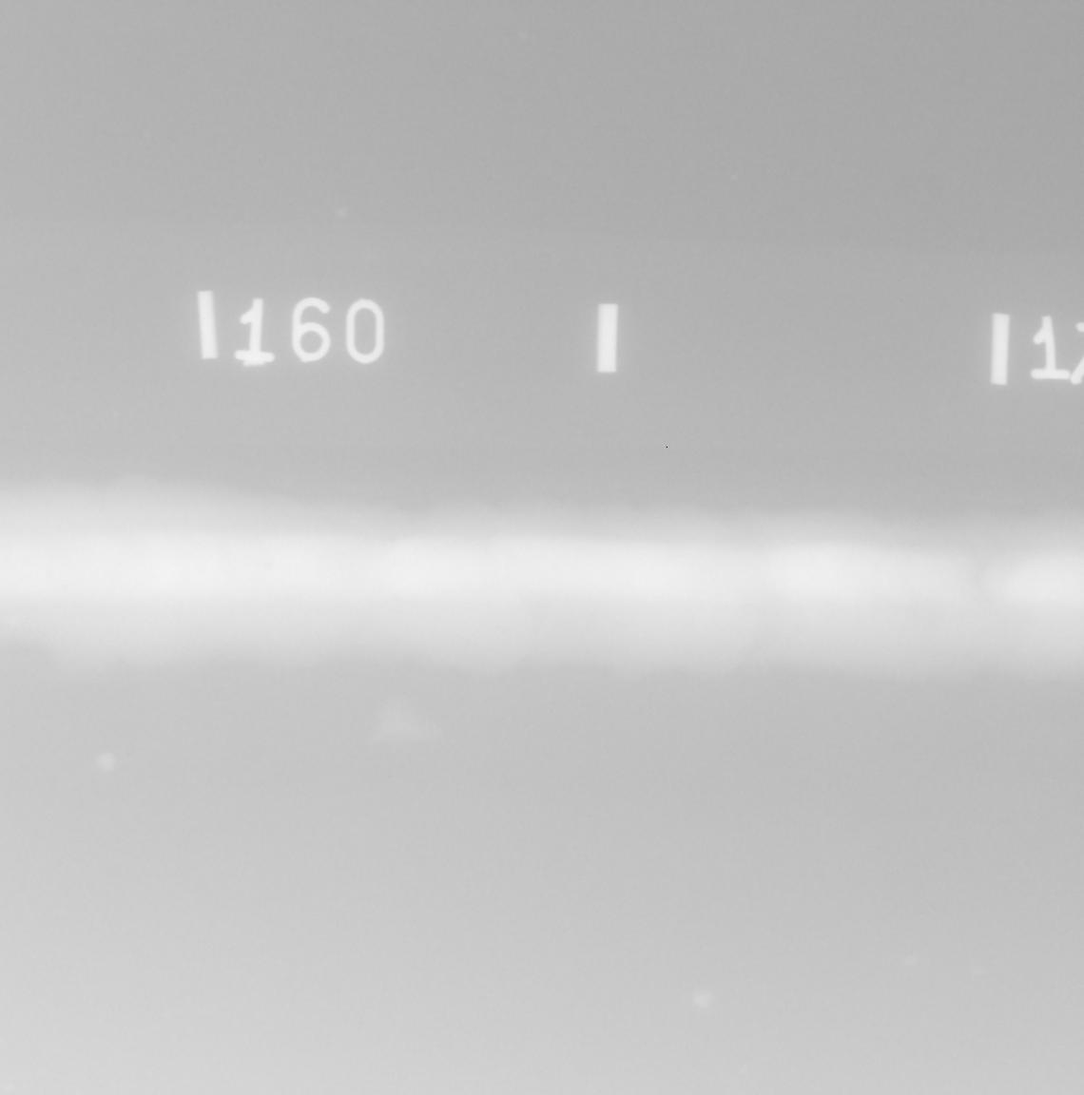Inclusion: (263, 559, 273, 570), (45, 570, 53, 577), (974, 595, 980, 604), (60, 584, 67, 589), (25, 559, 30, 566)
